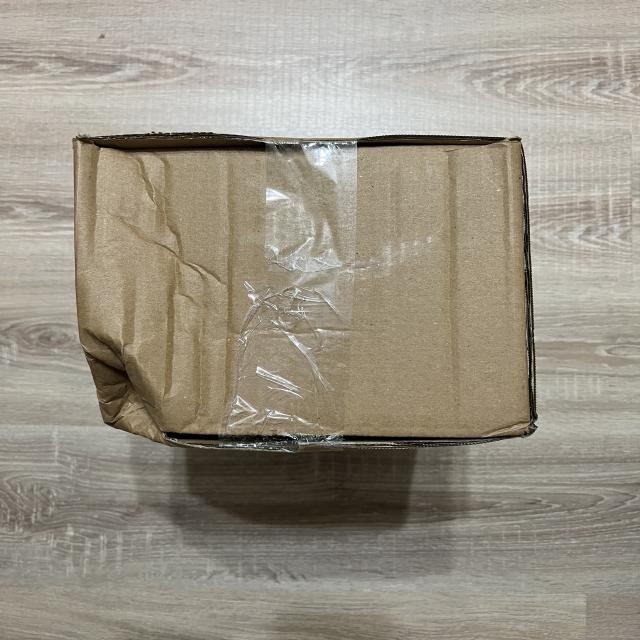damaged: (66, 127, 544, 454), (68, 326, 222, 452)
